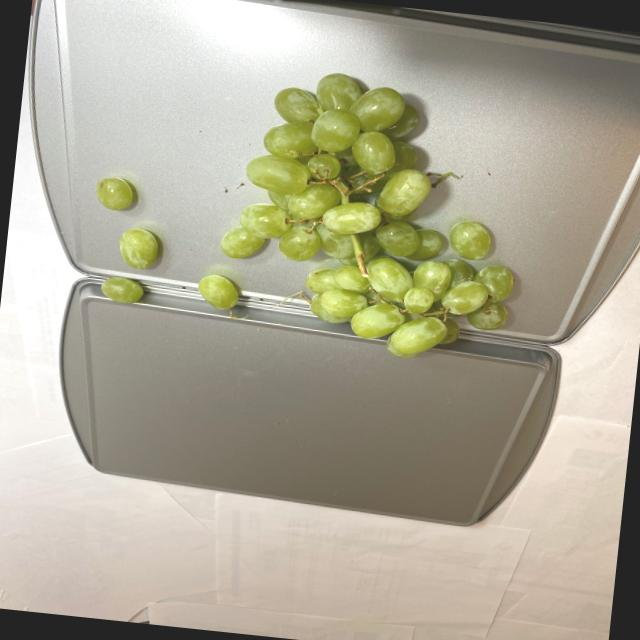grapes: (194, 58, 538, 367), (78, 176, 170, 310)
